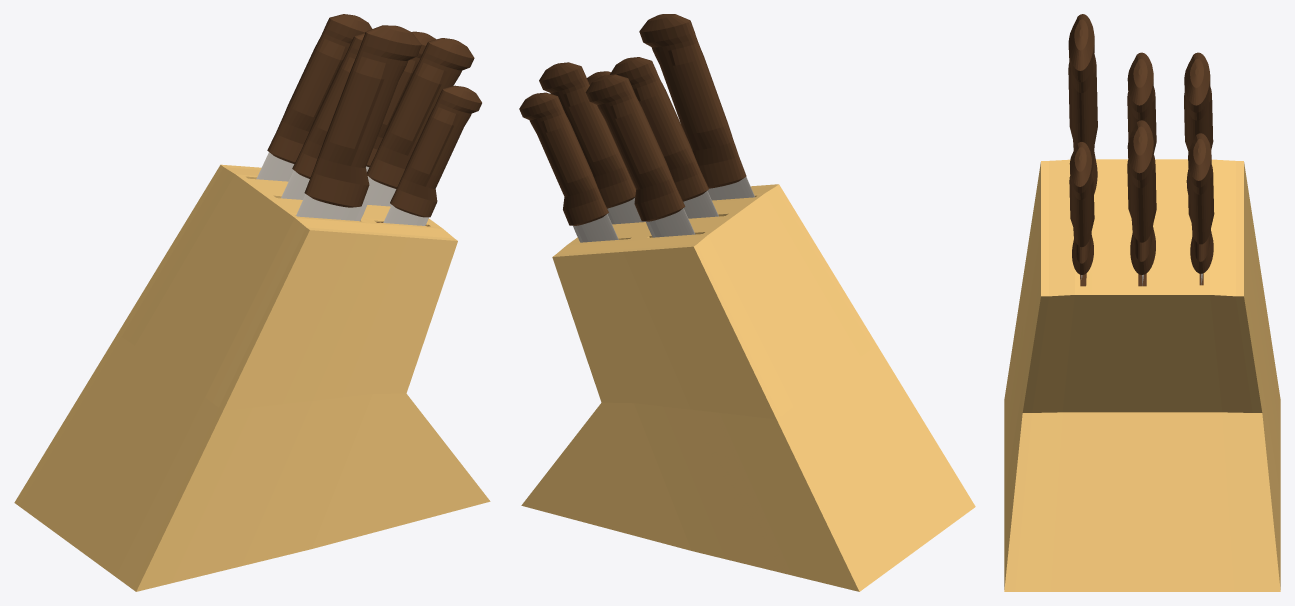
File: messenblok.fbx
3 views of the same model, side by side, from view 1: azimuth 30°, elevation 25°; view 2: azimuth 150°, elevation 25°; view 3: azimuth 270°, elevation 25° (orthographic). The views are drawn at different scales.
Parts seen in each view (by area): view 1: Cube, Object, Object.005, Object.004, Object.001, Object.002, Object.003, Cone, Cone.001; view 2: Cube, Object, Object.001, Object.005, Object.003, Object.002, Cone.001, Cone.003, Cone, Cone.002, Cone.005; view 3: Cube, Object.005, Object, Object.003, Object.004, Object.001, Object.002.
Boxes of the visible parts, x1,y1,x2,y2 form: Cube: (14, 164, 490, 591); Object: (304, 25, 421, 207); Object.005: (367, 38, 474, 188); Object.004: (390, 85, 481, 217); Object.001: (267, 14, 372, 163); Object.002: (292, 33, 364, 178); Object.003: (366, 31, 436, 167); Cone: (296, 194, 368, 221); Cone.001: (256, 152, 294, 181); Cube: (521, 184, 975, 591); Object: (639, 14, 746, 188); Object.001: (585, 74, 685, 221); Object.005: (539, 62, 635, 208); Object.003: (519, 92, 608, 225); Object.002: (610, 57, 708, 201); Cone.001: (645, 208, 695, 237); Cone.003: (573, 214, 618, 242); Cone: (707, 177, 754, 200); Cone.002: (683, 190, 718, 218); Cone.005: (607, 198, 645, 224); Cube: (1004, 159, 1280, 591); Object.005: (1127, 120, 1156, 274); Object: (1068, 14, 1097, 194); Object.003: (1187, 133, 1214, 273); Object.004: (1069, 142, 1094, 274); Object.001: (1184, 52, 1213, 192); Object.002: (1127, 52, 1156, 176).
Bounding box in the file's own units: 245 × 278 × 130.
